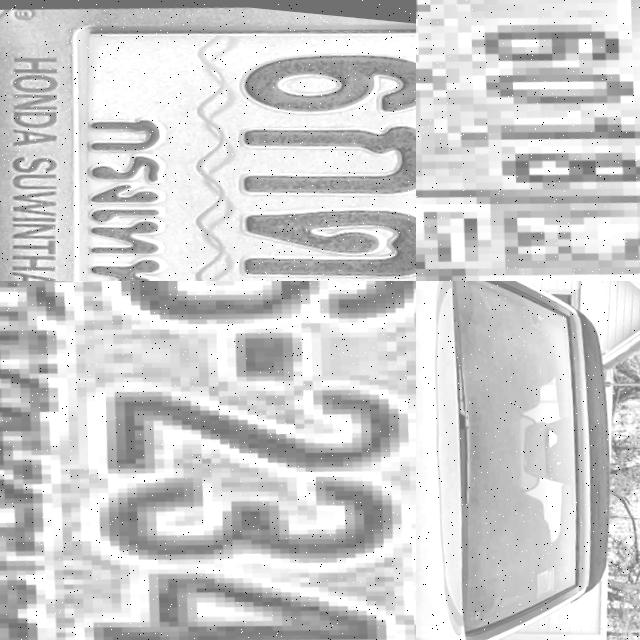license-plate: (0, 281, 416, 640), (0, 0, 416, 281), (416, 0, 640, 281)
